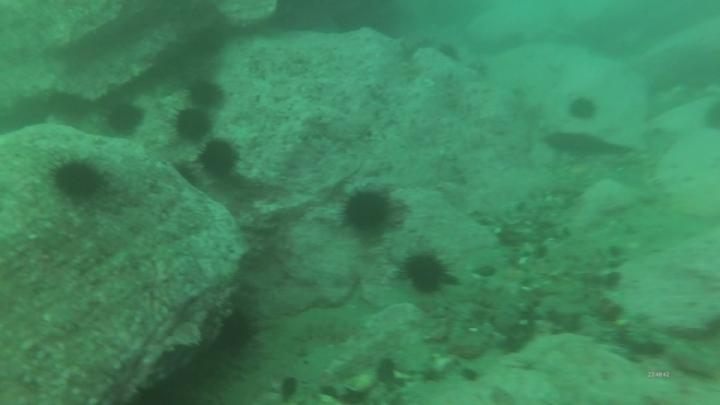echinus: (337, 188, 401, 239), (48, 157, 108, 207), (400, 251, 451, 299), (213, 307, 261, 354), (172, 104, 218, 147), (197, 138, 241, 181), (45, 92, 94, 126), (105, 101, 149, 138), (188, 24, 226, 63), (185, 78, 225, 110), (169, 162, 202, 194), (568, 94, 599, 126), (702, 98, 720, 135), (437, 42, 463, 62)
